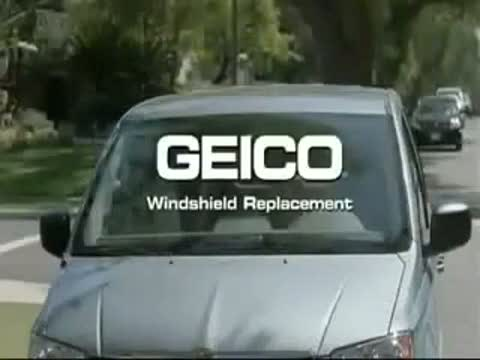geico: (154, 131, 354, 183)
